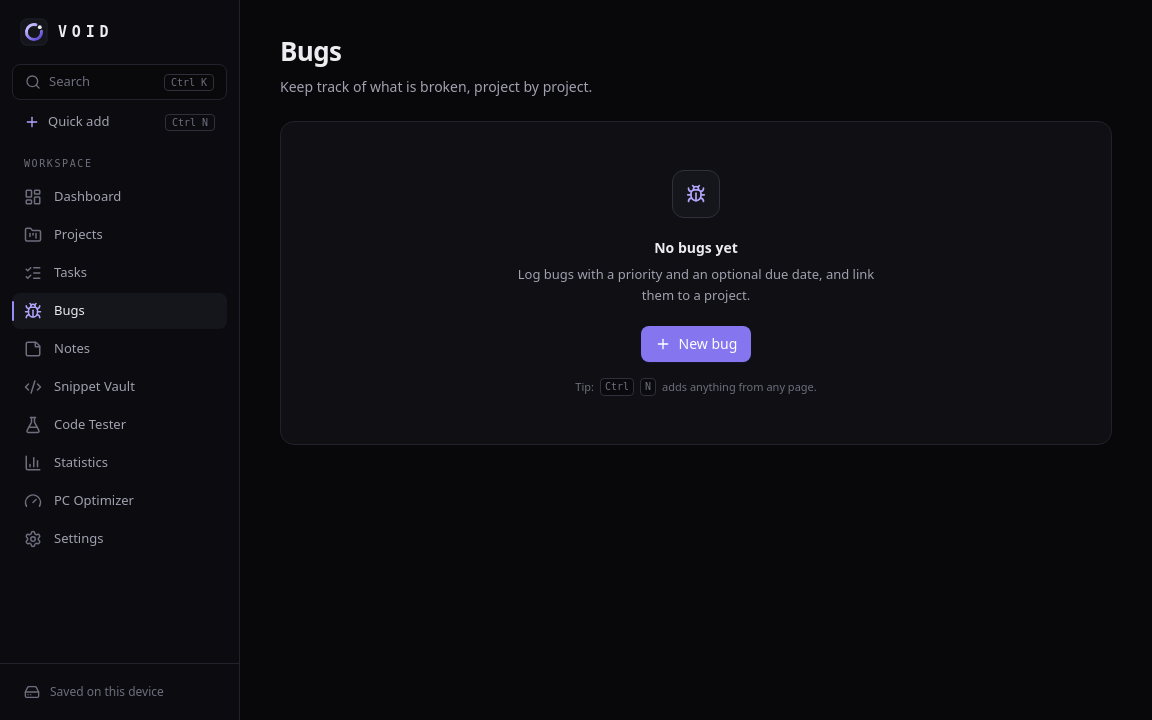
Test: bug tracking › starts empty and creates a bug with priority, project and status
Expected: the heading "No bugs yet" is shown, [654,238,738,258]
Click the button "New bug" at (696, 344), box [641,326,751,362]
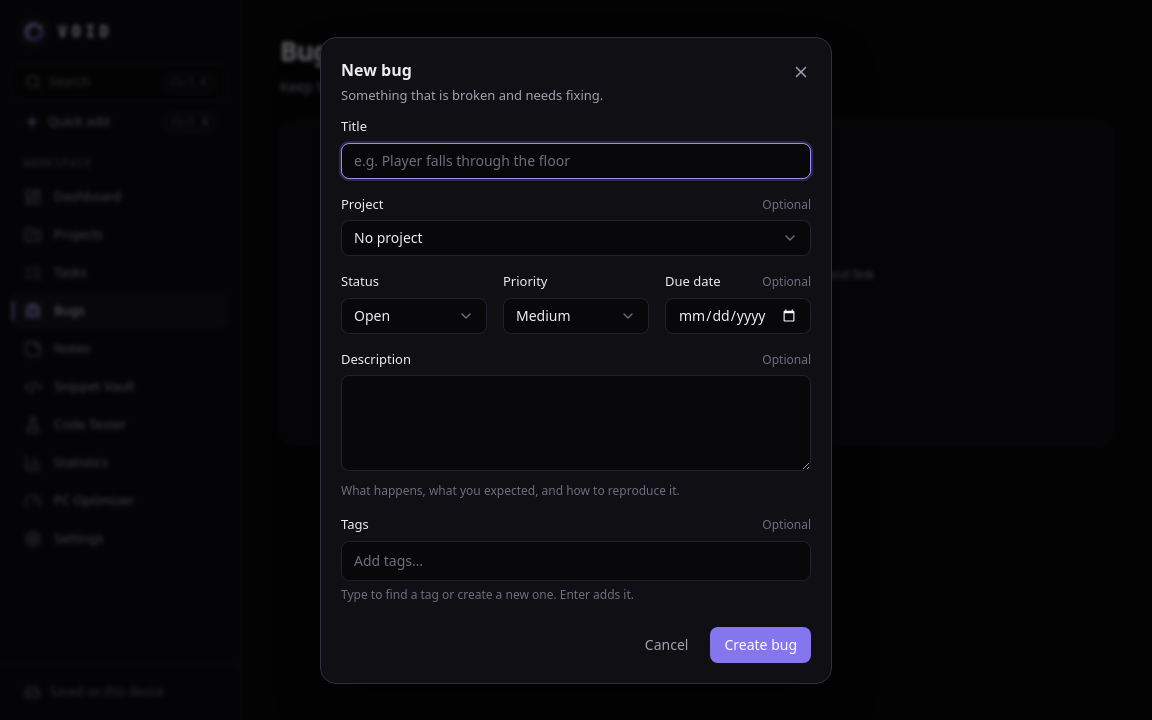
Type "Camera clips through walls" into the field labelled "Title" at (576, 160), box [341,142,811,178]
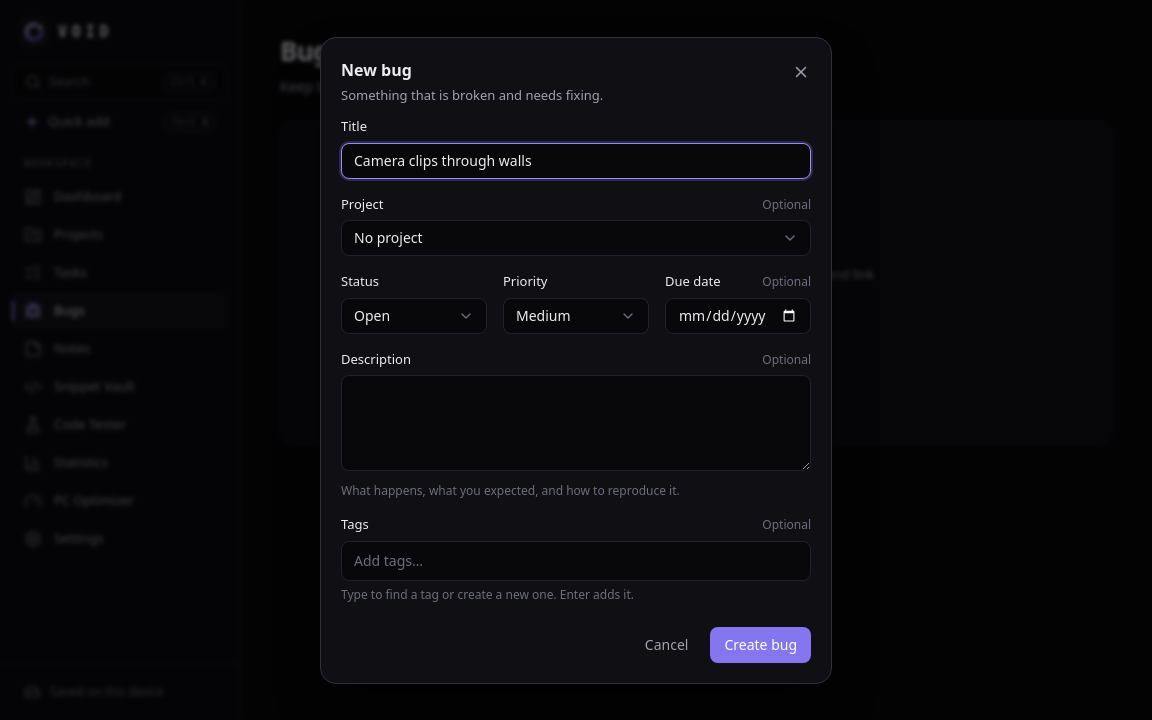
Select "Obby Rush" in the dropdown labelled "Project Optional" at (576, 238), box [341,220,811,256]
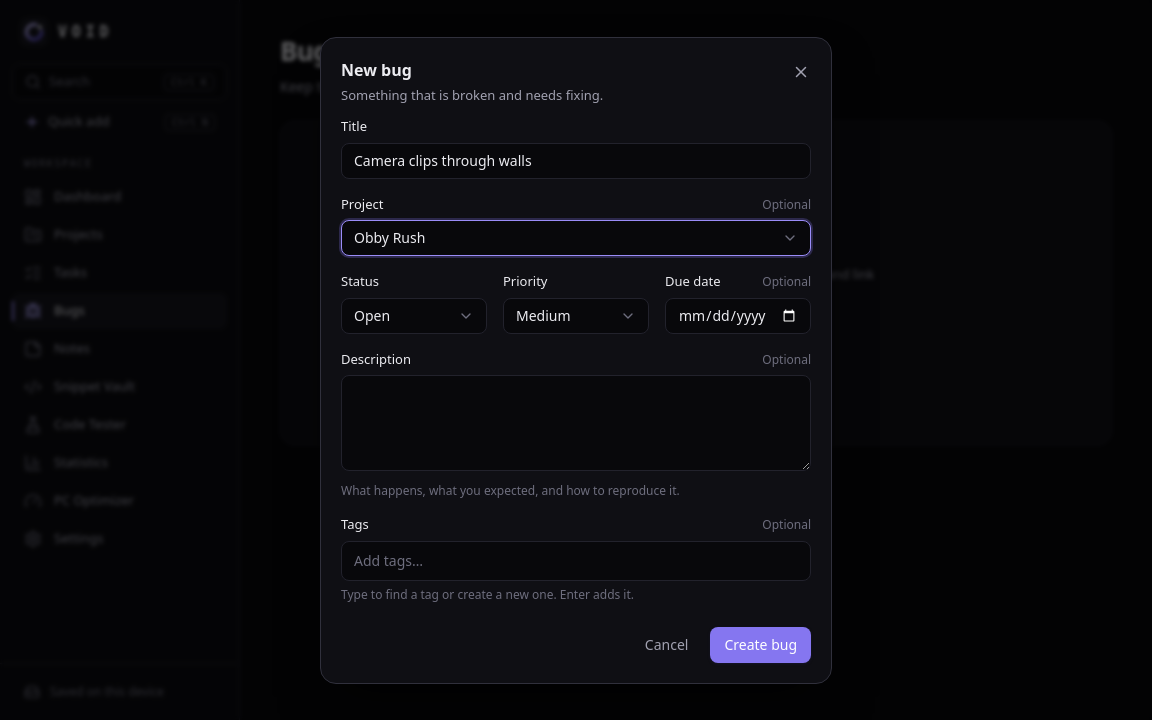
Select "Critical" in the dropdown labelled "Priority" at (576, 316), box [503,298,649,334]
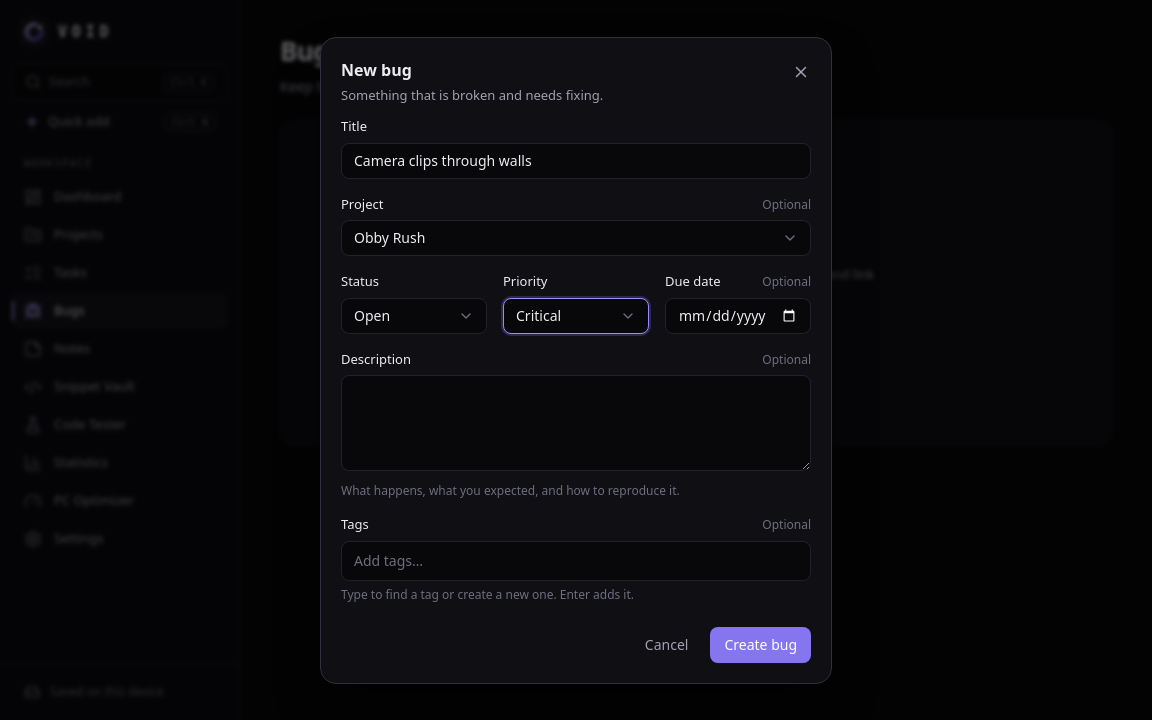
Click the button "Create bug" at (761, 644), box [710,626,811,662]
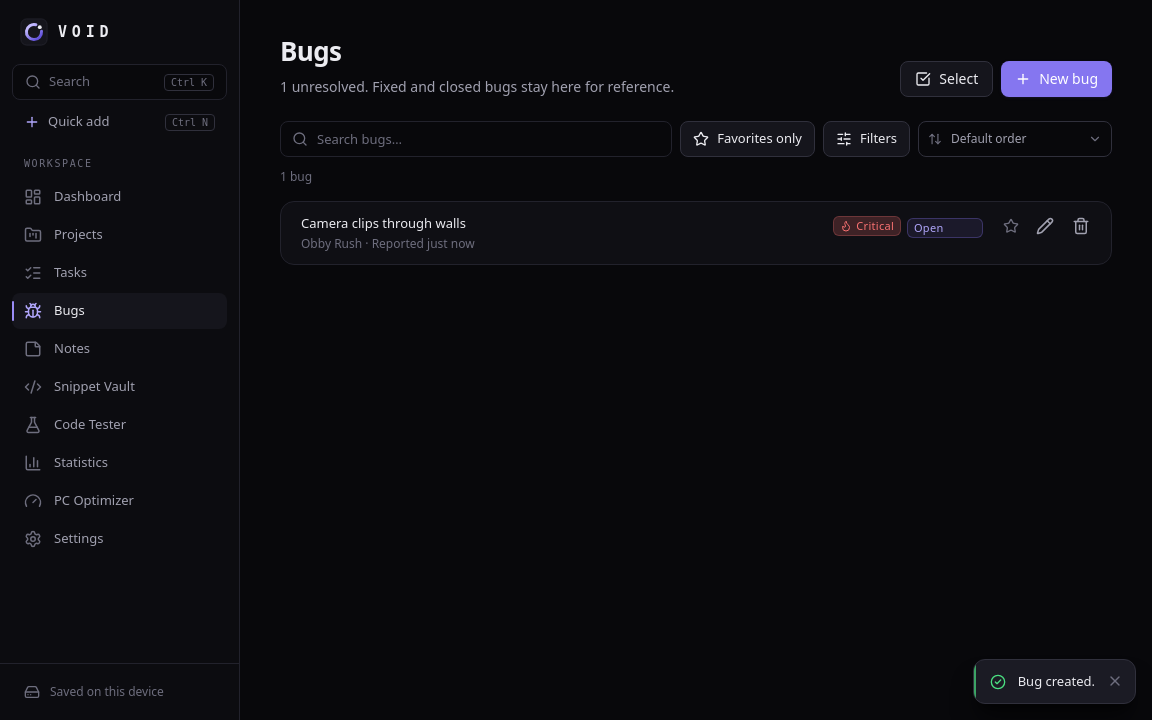
Result: the text "Camera clips through walls" is shown at [301,214,466,232]
